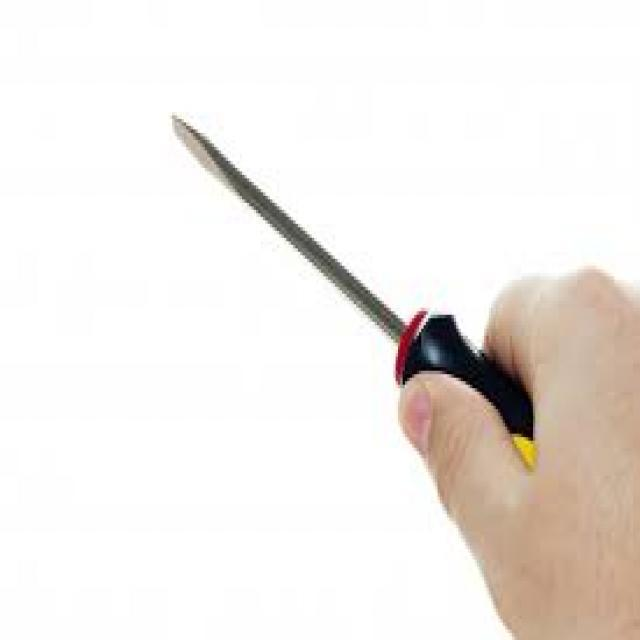screwdriver: (162, 102, 560, 494)
